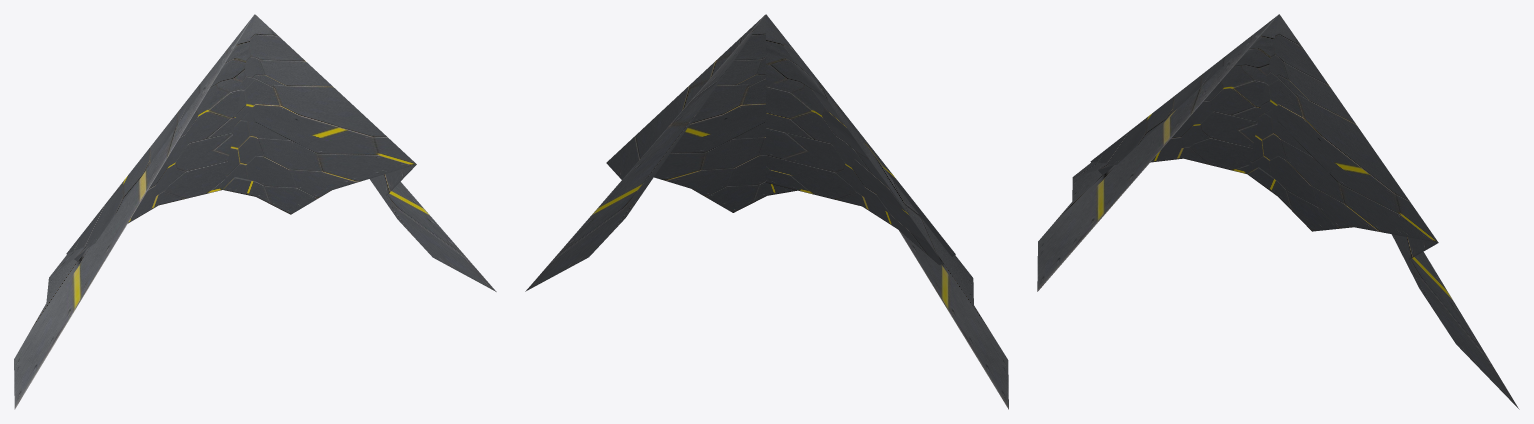
3 renders of one model, left to right at view 1: azimuth 30°, elevation 25°; view 2: azimuth 150°, elevation 25°; view 3: azimuth 330°, elevation 25°, orthographic.
Visible parts, largest first — view 1: Origami_Model_01; view 2: Origami_Model_01; view 3: Origami_Model_01.
Part boxes in pixels (x1,y1,x2,y2): Origami_Model_01: [14, 14, 496, 409]; Origami_Model_01: [525, 14, 1008, 409]; Origami_Model_01: [1037, 14, 1519, 409].
Bounding box in the file's own units: 0.6 × 0.4 × 0.0055.
Materials: 1 (1 with a texture image).
